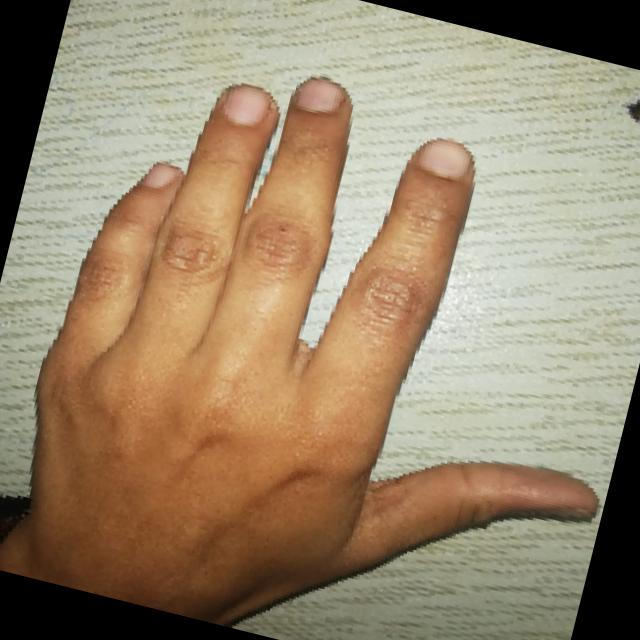Nail: (416, 138, 473, 180), (223, 85, 268, 126), (295, 78, 346, 113), (532, 504, 594, 522), (141, 163, 181, 188)
